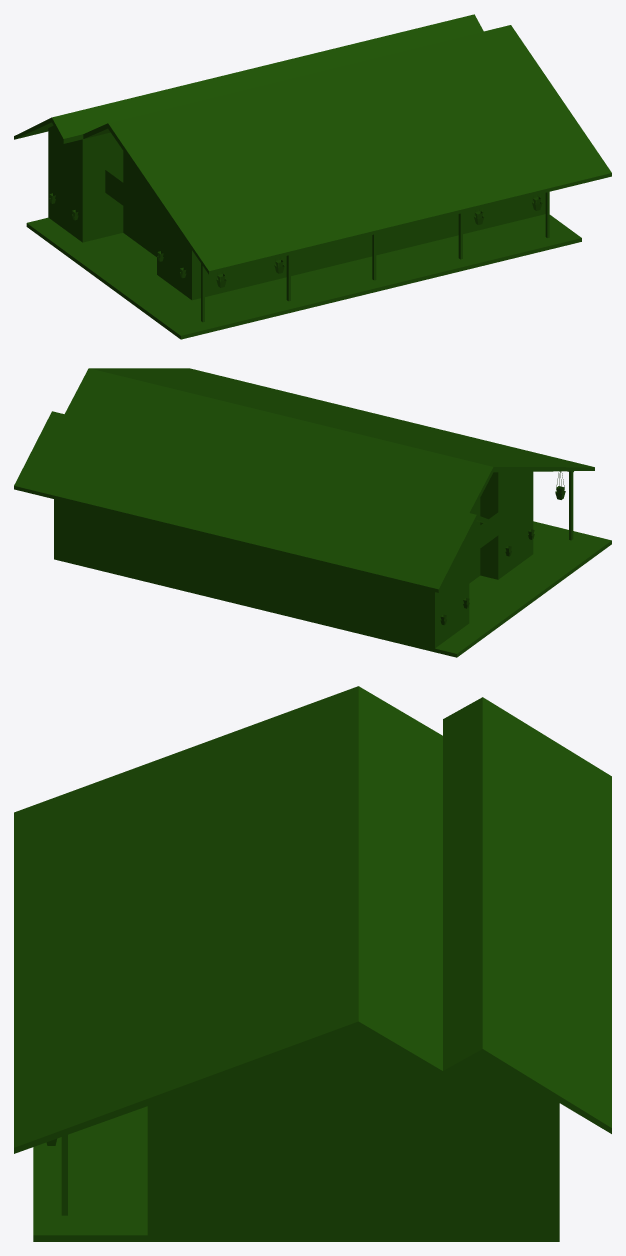
The model's file is BGHouse_02.fbx.
3 views of the same model, one above another, from view 1: azimuth 30°, elevation 25°; view 2: azimuth 150°, elevation 25°; view 3: azimuth 270°, elevation 25° (orthographic). The views are drawn at different scales.
Visible parts, largest first — view 1: BGHouse_02; view 2: BGHouse_02; view 3: BGHouse_02.
Part boxes in pixels (left/top/right/bottom): BGHouse_02: left=14, top=14, right=611, bottom=339; BGHouse_02: left=14, top=368, right=611, bottom=657; BGHouse_02: left=14, top=686, right=611, bottom=1241.
Bounding box in the file's own units: 11.2 × 3.55 × 7.99.
